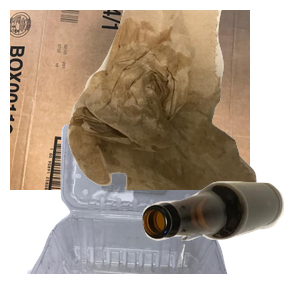cardboard: (10, 10, 250, 190)
glass: (140, 179, 300, 300)
plastic: (25, 120, 245, 300)
trash: (65, 10, 300, 190)
